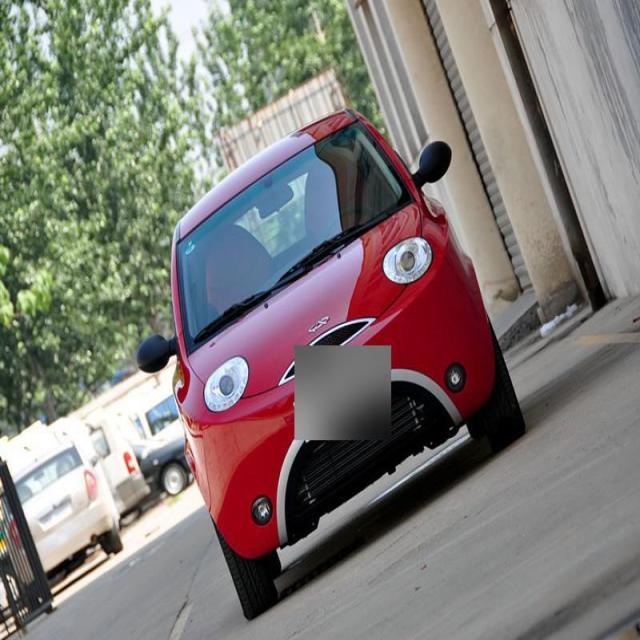front_bumper: (195, 236, 502, 586)
front_glass: (178, 115, 416, 364)
front_left_side_light: (381, 232, 433, 290)
front_left_side_mirror: (412, 136, 455, 190)
front_right_side_light: (202, 354, 252, 416)
front_right_side_mirror: (135, 324, 181, 379)
